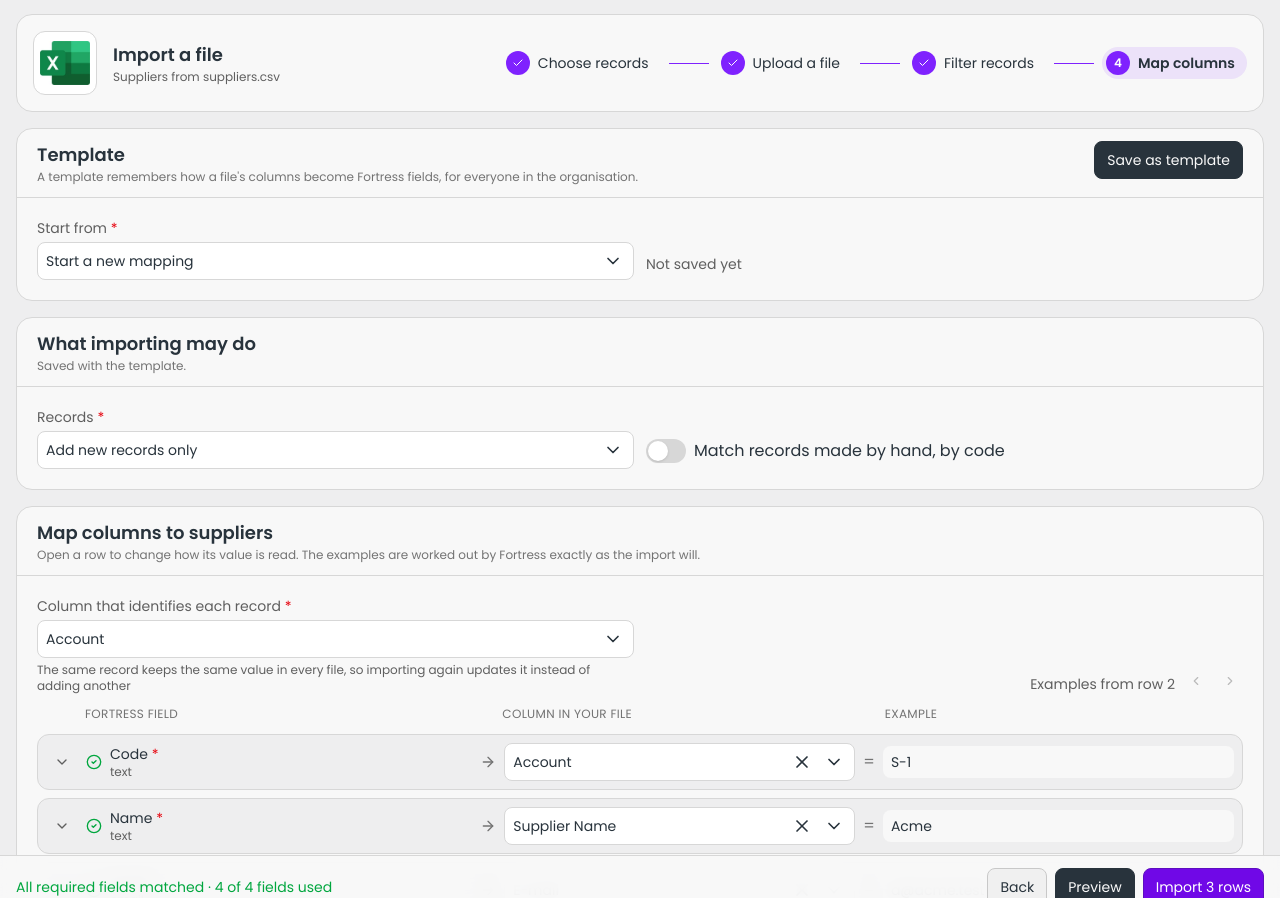
Scenario: file import wizard › step 4 with no template: suggests columns, shows the server's examples, flags a missing field, then saves a new template and imports with it
The image size is (1280, 898).
Later steps or results of the test are not shown.
Expected: the dropdown named "Column for Code" holds "Account", x1=513 y1=752 x2=778 y2=772
Expected: the element named "Example for Name" reads "Acme", x1=891 y1=816 x2=932 y2=836
Click the button named "Clear Column for Code": (802, 762) x1=790 y1=750 x2=814 y2=774
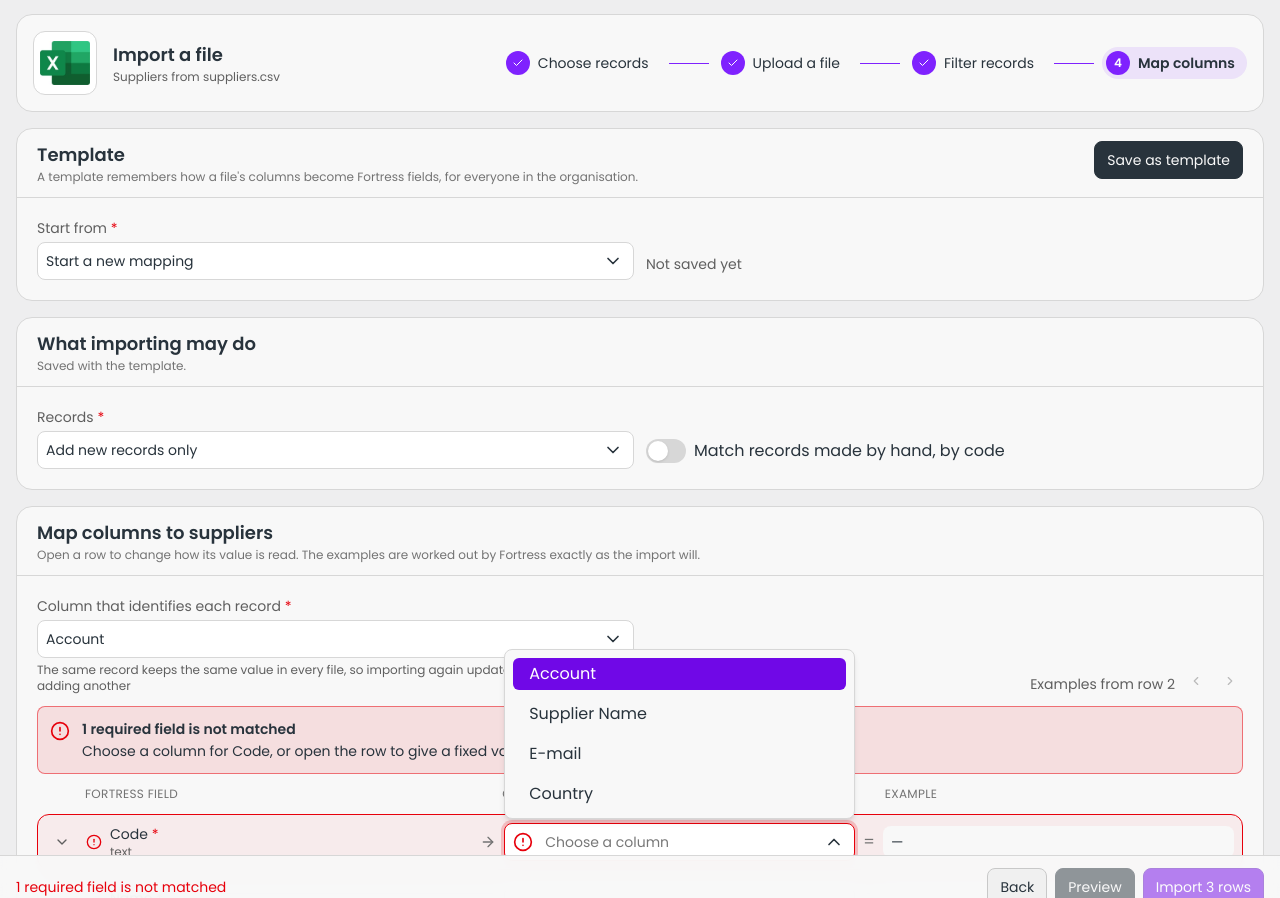
Result: the list item "Code" has attribute data-missing at x1=37 y1=814 x2=1243 y2=870
Click the dropdown named "Column for Code": (678, 842) x1=545 y1=832 x2=810 y2=852
Click the option "Account": (680, 674) x1=505 y1=654 x2=854 y2=694
(page scrolled)
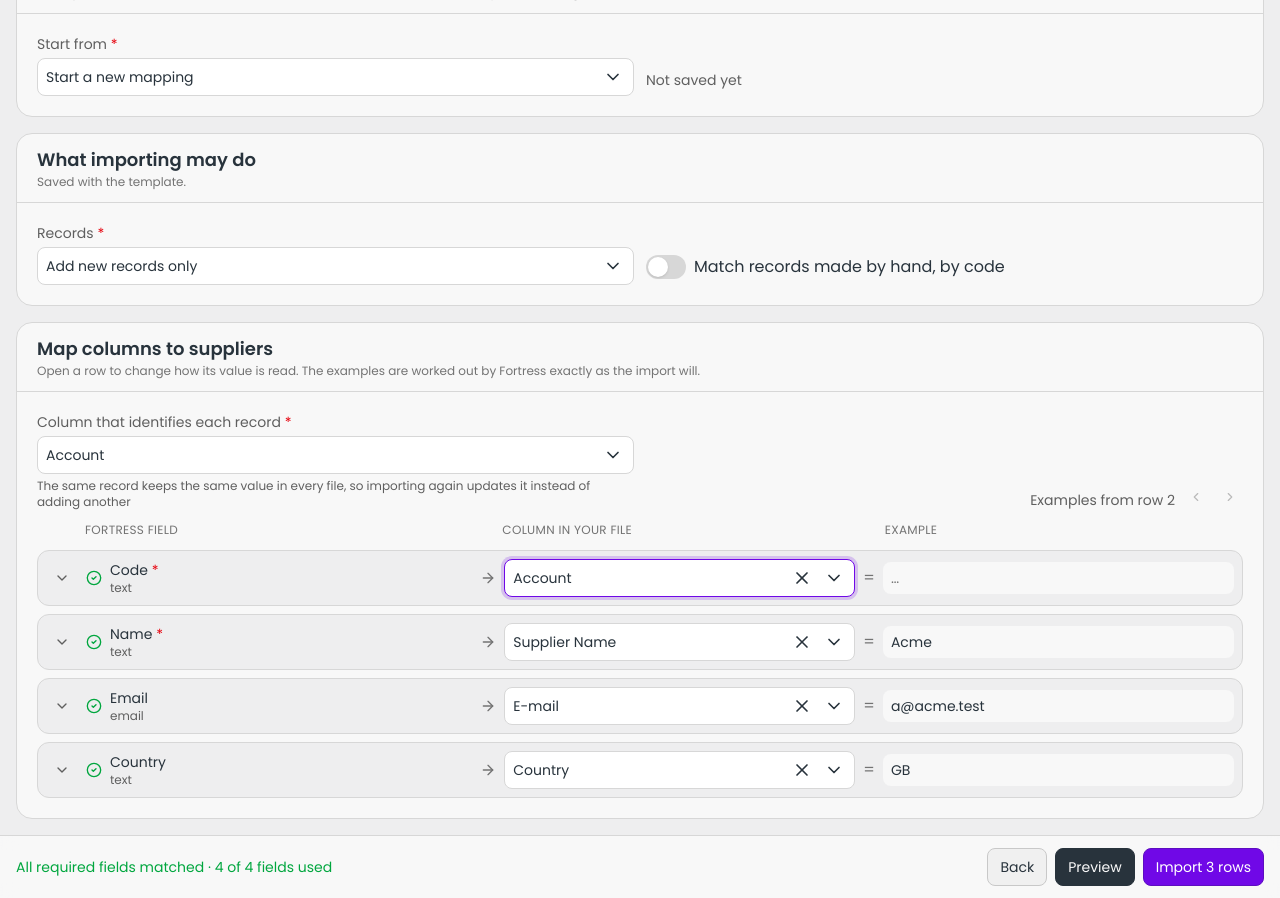
Click the button "Import 3 rows": (1203, 867) x1=1143 y1=848 x2=1264 y2=886
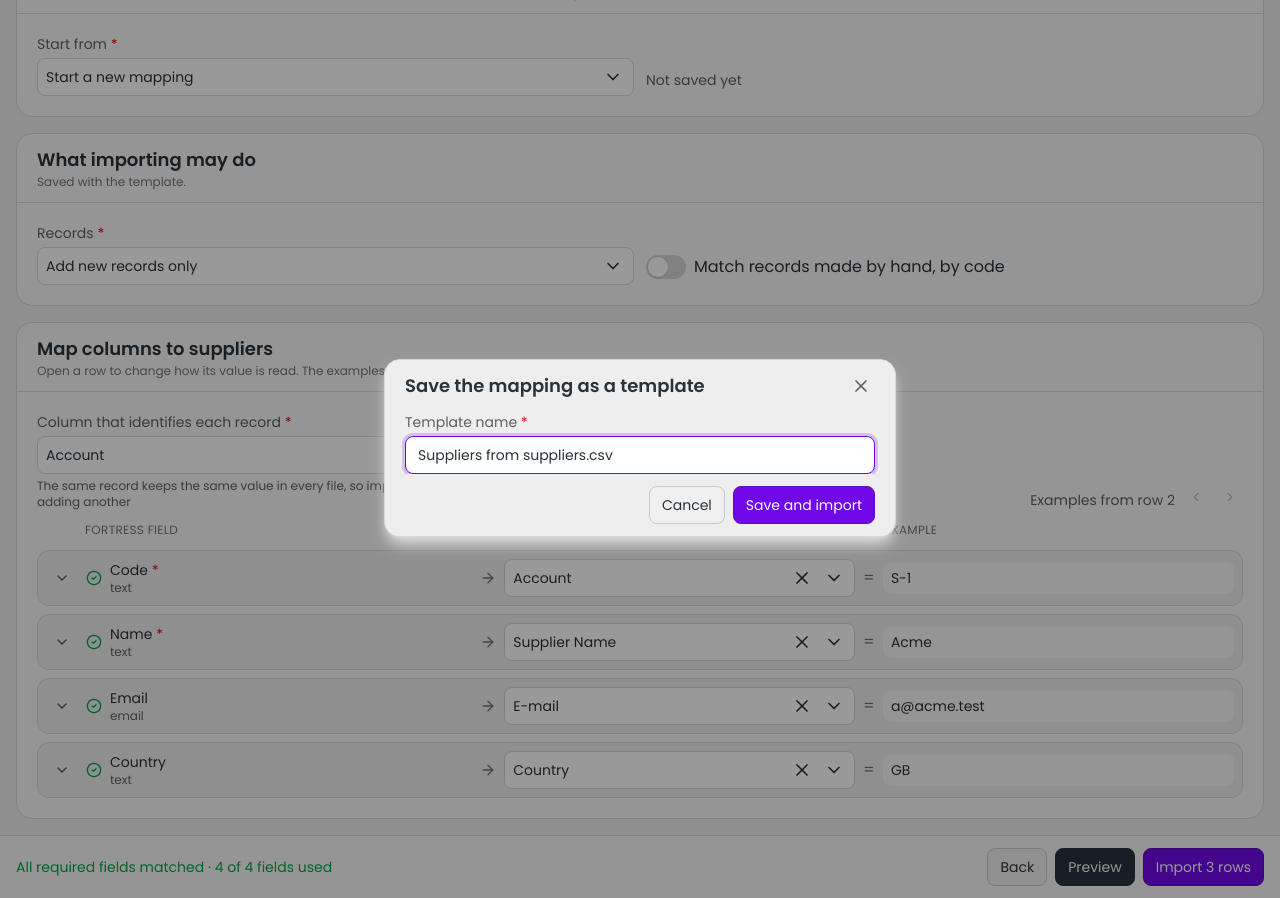
Result: the field labelled "Template name" holds "Suppliers from suppliers.csv" at x1=405 y1=436 x2=875 y2=474
